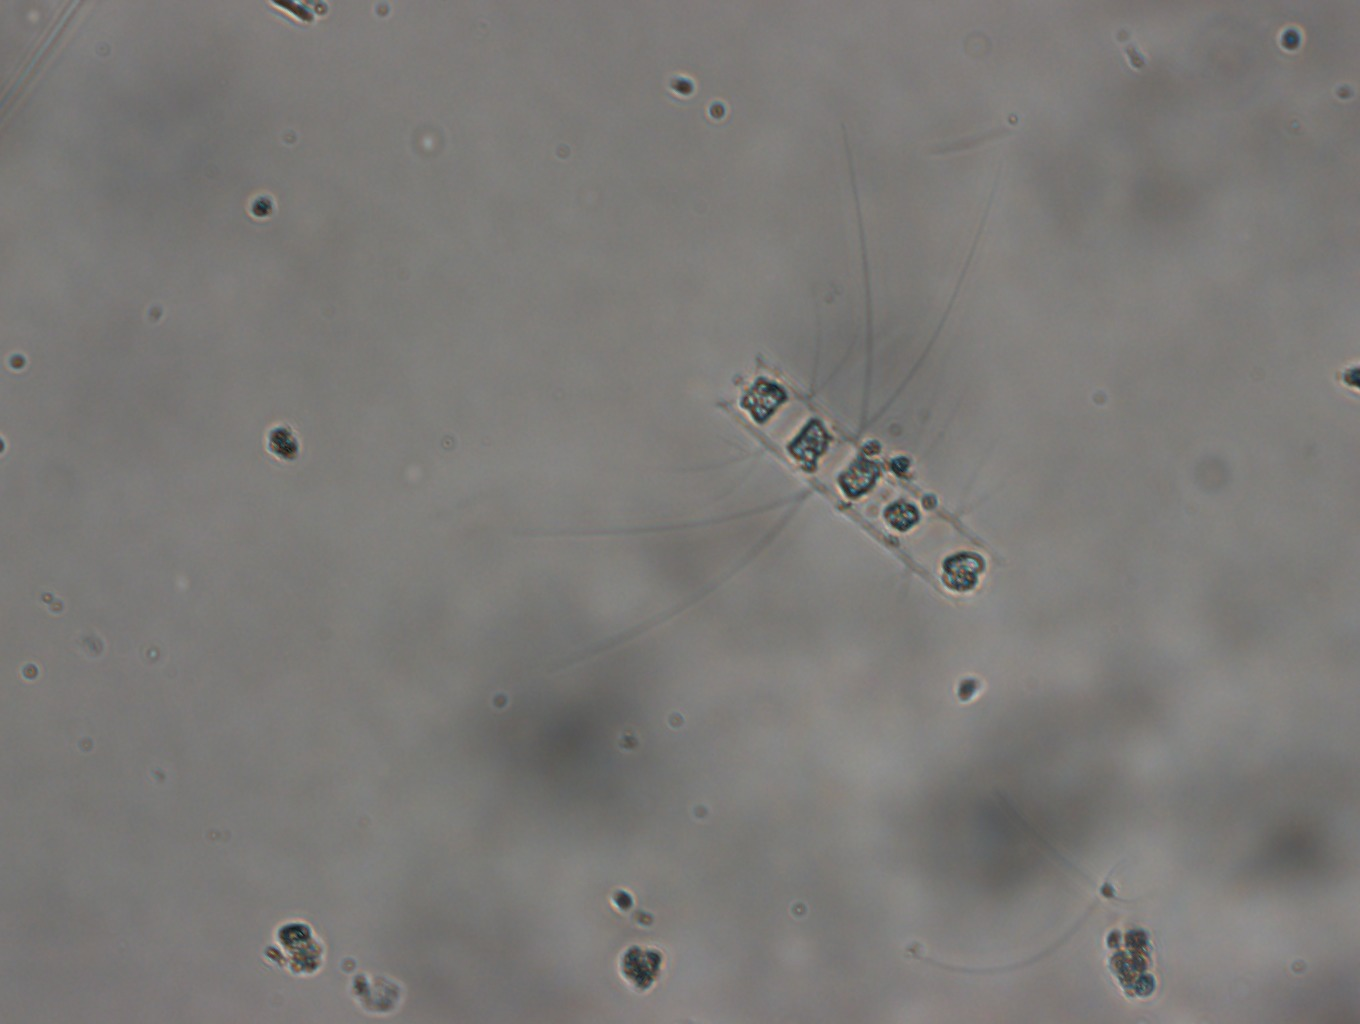chaetoceros: (554, 138, 1003, 675)
